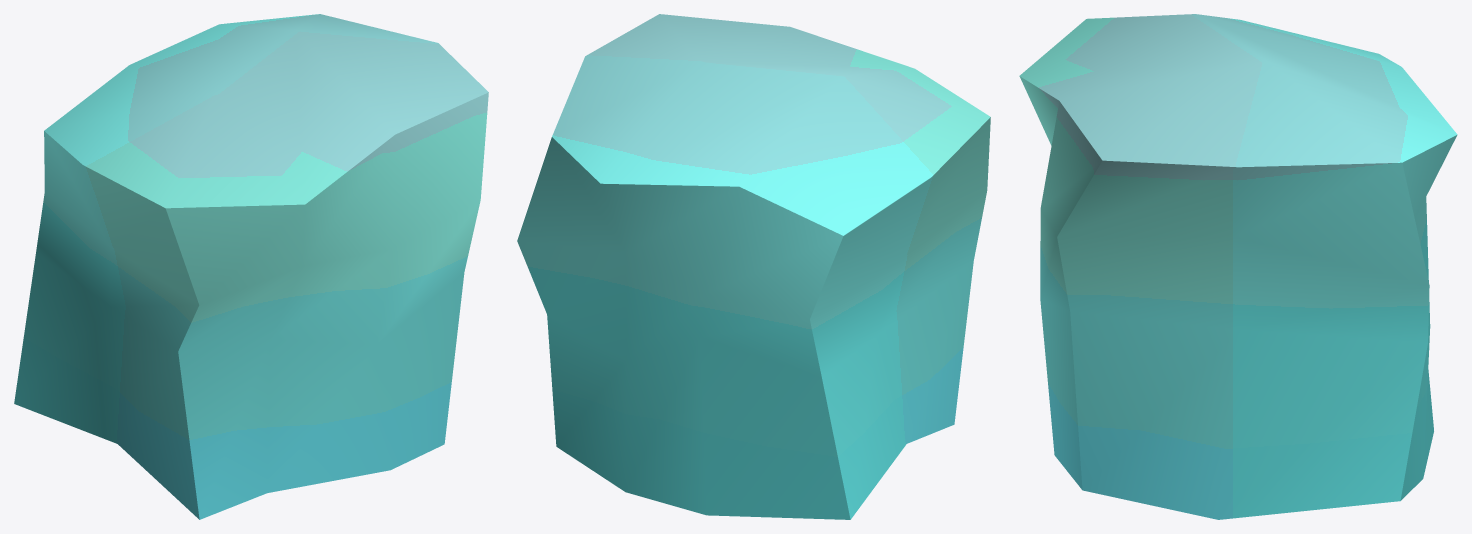
File: IceCube.fbx
3 views of the same model, side by side, from view 1: azimuth 30°, elevation 25°; view 2: azimuth 150°, elevation 25°; view 3: azimuth 270°, elevation 25° (orthographic). The views are drawn at different scales.
Parts seen in each view (by area): view 1: IceCube; view 2: IceCube; view 3: IceCube.
Part boxes in pixels (bbox=[...]): IceCube: bbox=[14, 14, 488, 519]; IceCube: bbox=[517, 14, 990, 519]; IceCube: bbox=[1019, 14, 1457, 519].
Size of the model in its own units: 0.8316 by 0.8826 by 0.8264.
